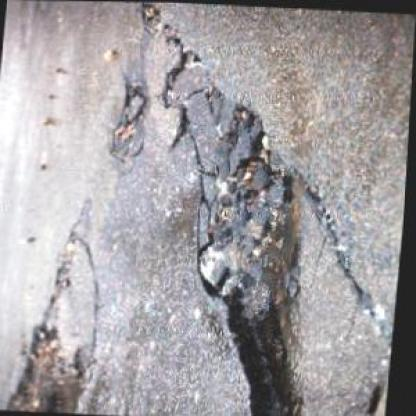pothole: (100, 1, 414, 416), (8, 317, 100, 412), (107, 74, 154, 162)
